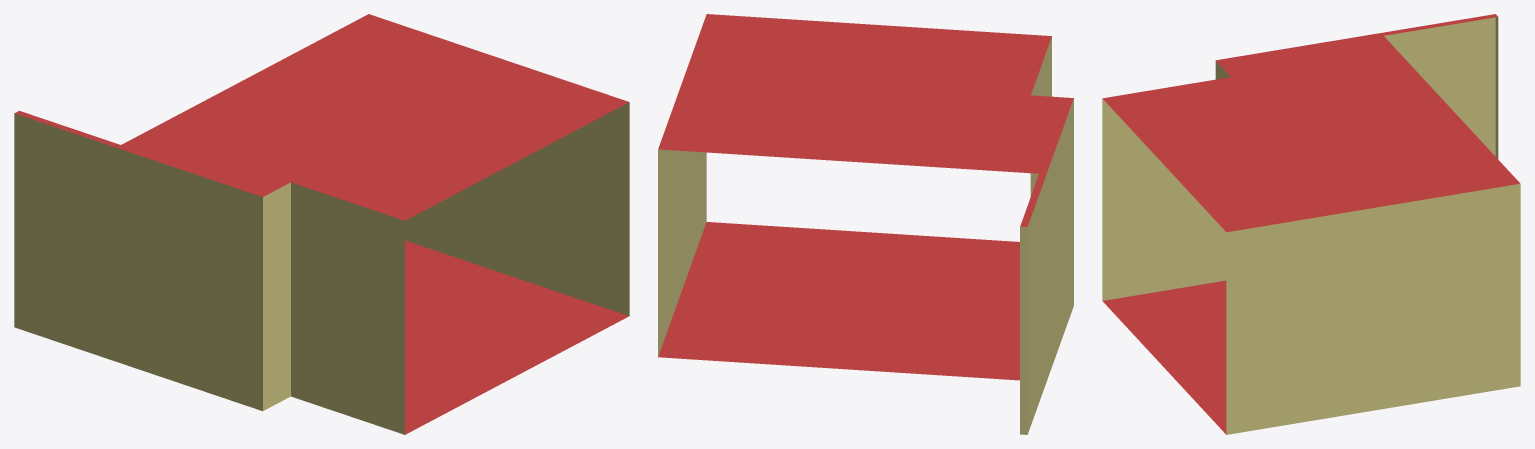
3 renders of one model, left to right at view 1: azimuth 30°, elevation 25°; view 2: azimuth 150°, elevation 25°; view 3: azimuth 270°, elevation 25°, orthographic. The views are drawn at different scales.
Bounding box in the file's own units: 14.46 × 11.71 × 6.26.
